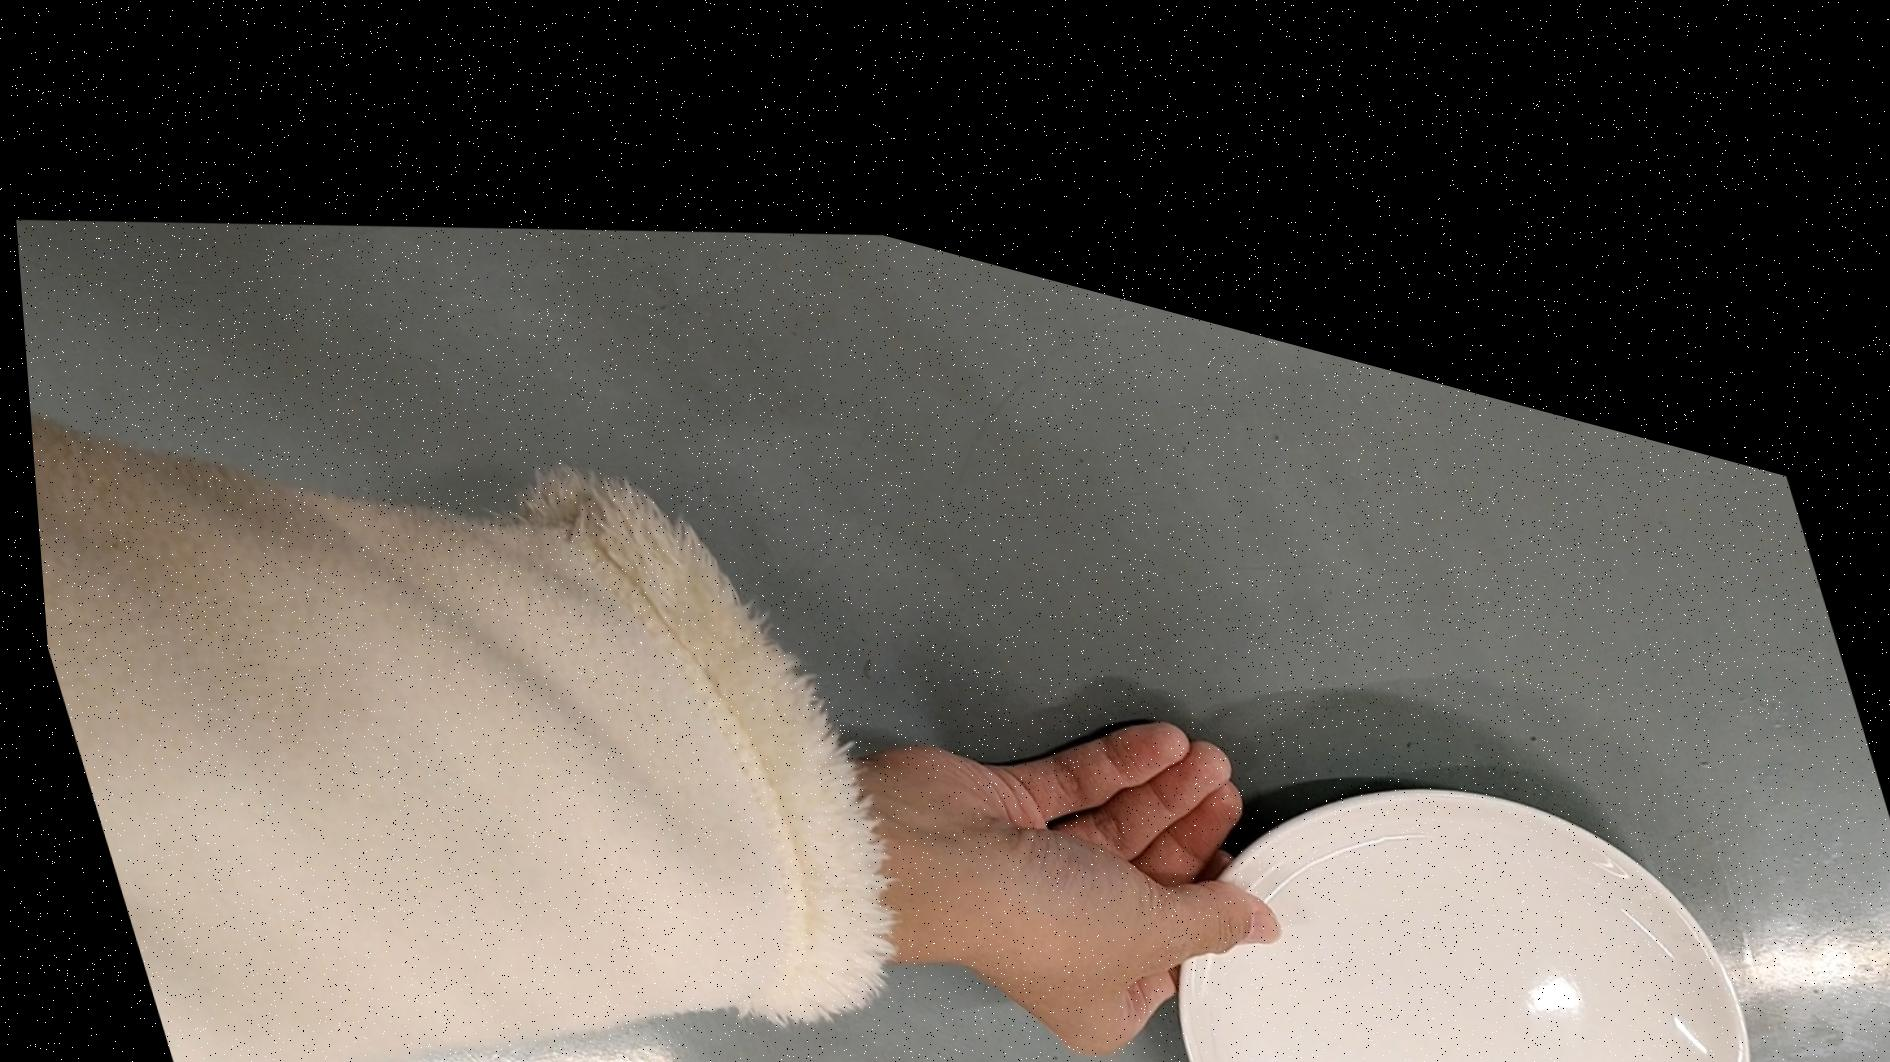plate: (1085, 571, 1822, 1062)
